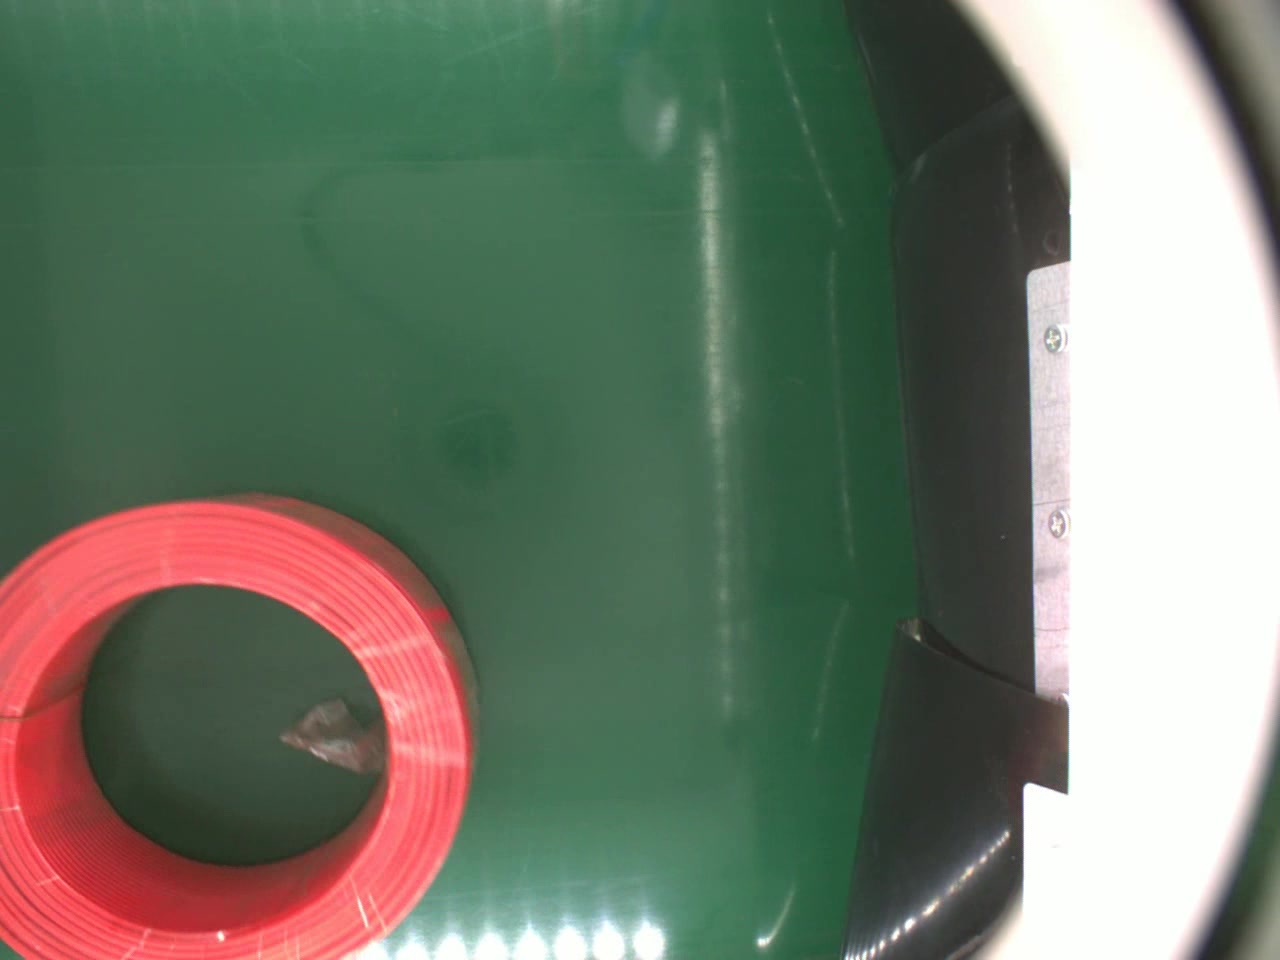red: (0, 492, 483, 958)
